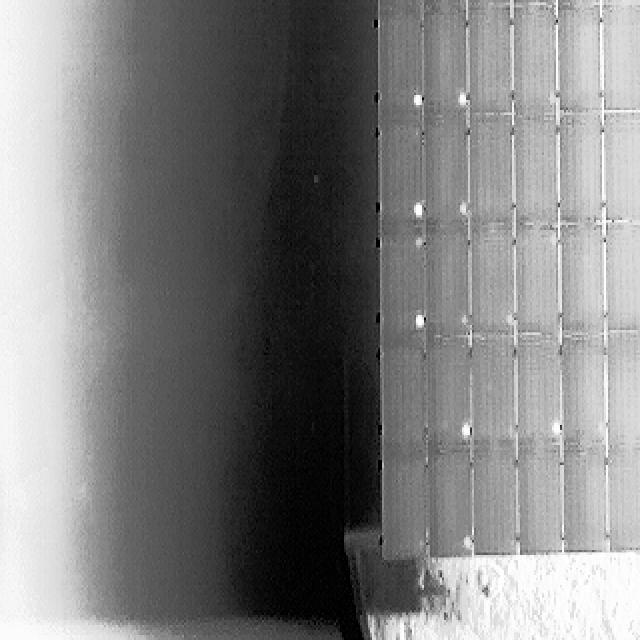Hotspots: (449, 86, 467, 110), (546, 418, 563, 441), (460, 86, 477, 109), (413, 200, 428, 222), (414, 314, 428, 337), (462, 419, 476, 442), (499, 310, 515, 329), (454, 199, 470, 218), (416, 88, 428, 112), (466, 530, 478, 554), (546, 234, 558, 254), (458, 314, 470, 330), (634, 412, 640, 438), (414, 236, 425, 250)
PV-modules: (558, 333, 613, 447), (462, 7, 512, 121), (464, 120, 514, 232), (420, 121, 470, 233), (419, 230, 468, 341), (516, 225, 564, 337), (419, 9, 467, 121), (516, 339, 562, 454), (469, 340, 515, 451), (558, 224, 604, 335), (422, 338, 468, 448), (381, 232, 425, 347), (519, 447, 566, 554), (555, 9, 601, 118), (516, 120, 562, 229), (471, 226, 516, 337), (378, 453, 426, 557), (557, 117, 602, 227), (515, 6, 559, 118), (426, 452, 473, 556), (561, 448, 608, 552), (380, 12, 423, 124), (378, 347, 423, 454), (472, 446, 516, 555), (381, 119, 424, 230), (600, 330, 640, 445), (600, 445, 640, 553), (602, 110, 640, 220), (602, 5, 640, 110), (606, 222, 640, 332), (378, 0, 422, 10), (418, 0, 466, 8), (556, 0, 600, 5), (596, 0, 640, 5), (512, 0, 556, 5), (466, 0, 514, 2)
